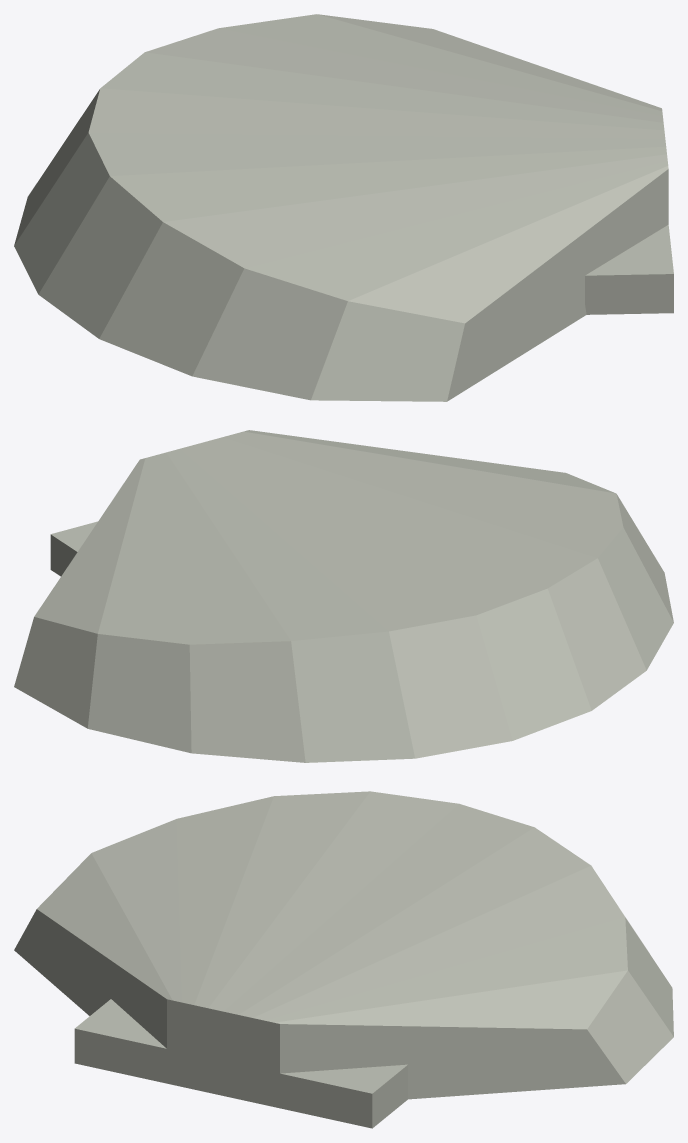
File: Shell_tex.fbx
The picture shows the model from 3 angles, top to bottom: view 1: azimuth 30°, elevation 25°; view 2: azimuth 150°, elevation 25°; view 3: azimuth 270°, elevation 25°; orthographic projection. The views are drawn at different scales.
Parts seen in each view (by area): view 1: Shell_tex; view 2: Shell_tex; view 3: Shell_tex.
Boxes of the visible parts, x1,y1,x2,y2 form: Shell_tex: [14, 14, 673, 401]; Shell_tex: [14, 430, 673, 762]; Shell_tex: [14, 791, 673, 1128].
Size of the model in its own units: 0.3944 by 0.0695 by 0.4173.
